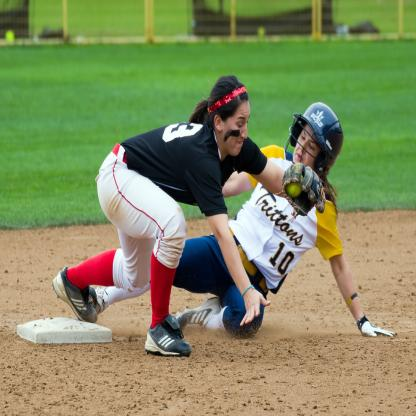Helmet: (293, 102, 343, 176)
